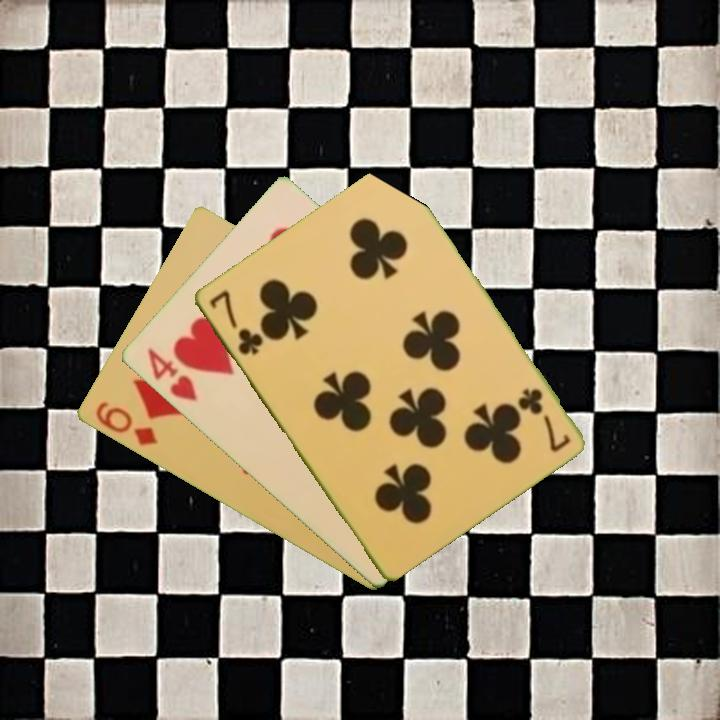4h: (143, 344, 200, 405)
6d: (91, 398, 160, 449)
7c: (205, 286, 266, 358), (514, 384, 573, 456)
